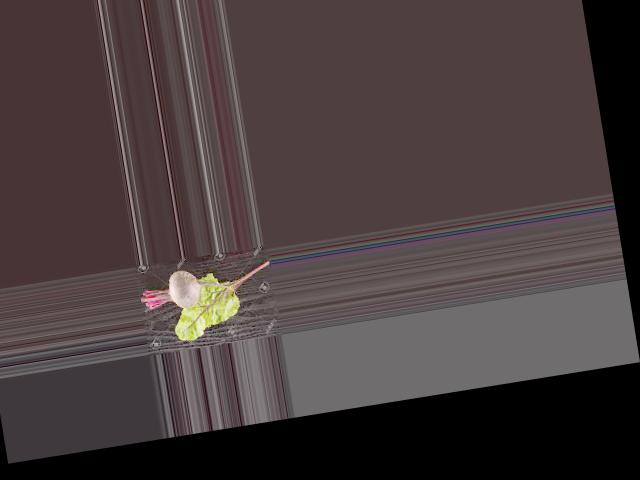beet: (136, 262, 237, 315)
